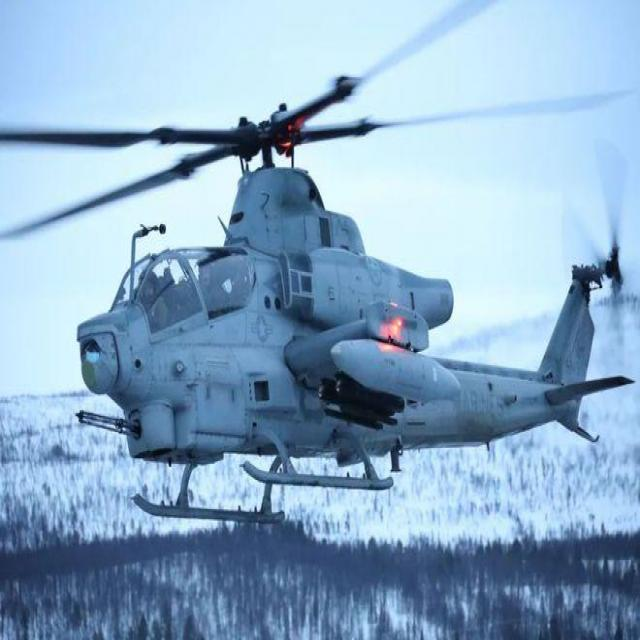MIL_HELO: (0, 16, 635, 535)
